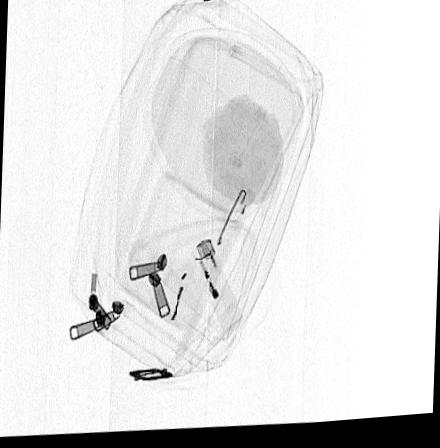Lighter: (190, 242, 242, 341)
